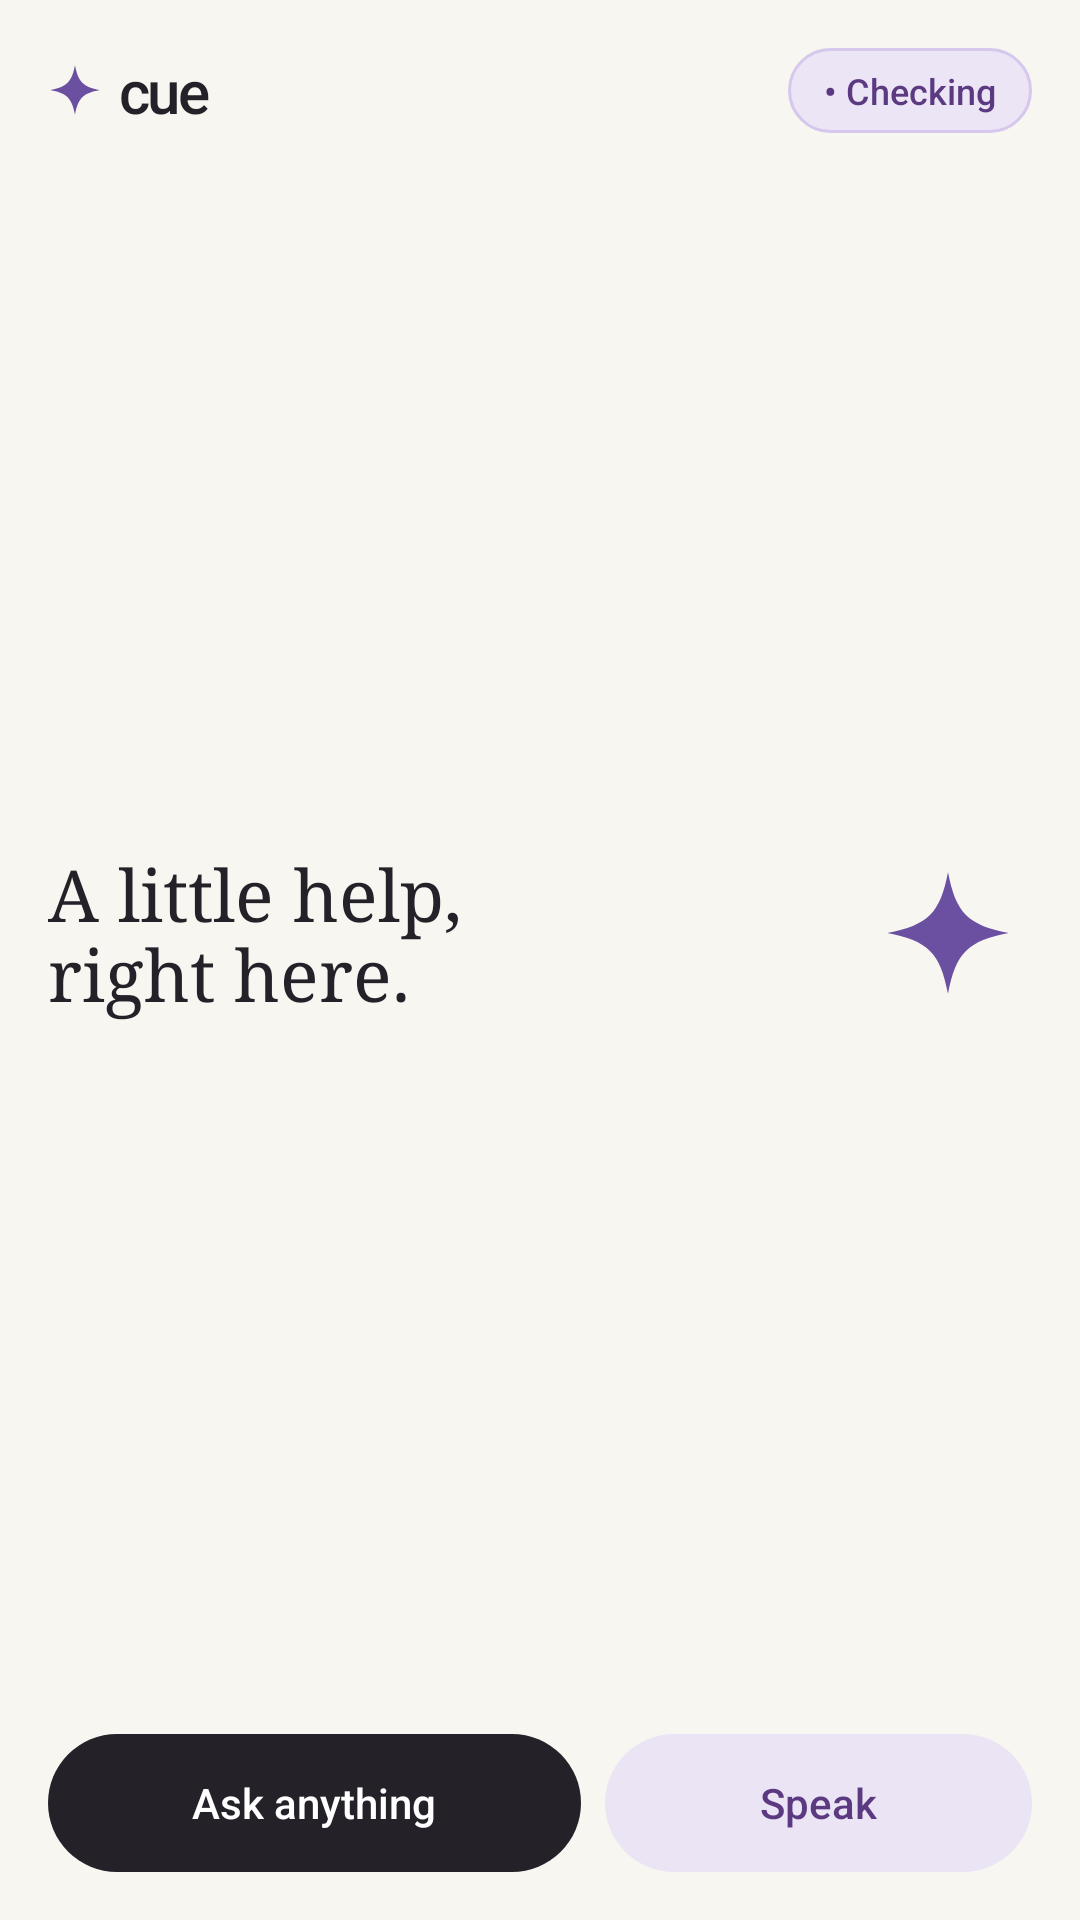

Locate icon controls on the screen. Image size 1080x1920, boxes as (left=x1, top=y1, right=x2, bottom=y2).
Cue spark: (left=51, top=66, right=99, bottom=114)
Cue spark art: (left=888, top=873, right=1008, bottom=993)
